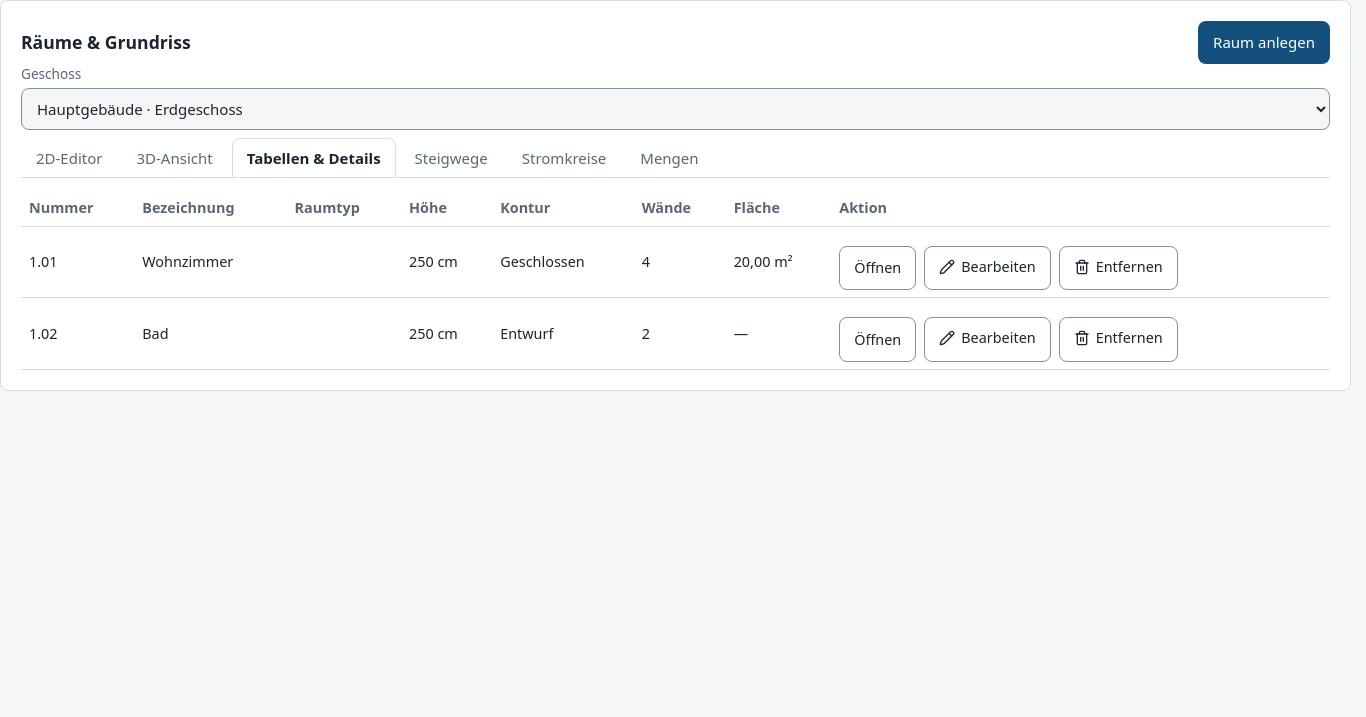
Raum öffnen › meldet die Ablehnung einer Wandloeschung mit Oeffnungen
Expected: the text "Wohnzimmer" is shown, [134, 226, 287, 298]
Click the button with aria-label "Raum Wohnzimmer öffnen": (878,268) [839, 246, 916, 290]
(page scrolled)
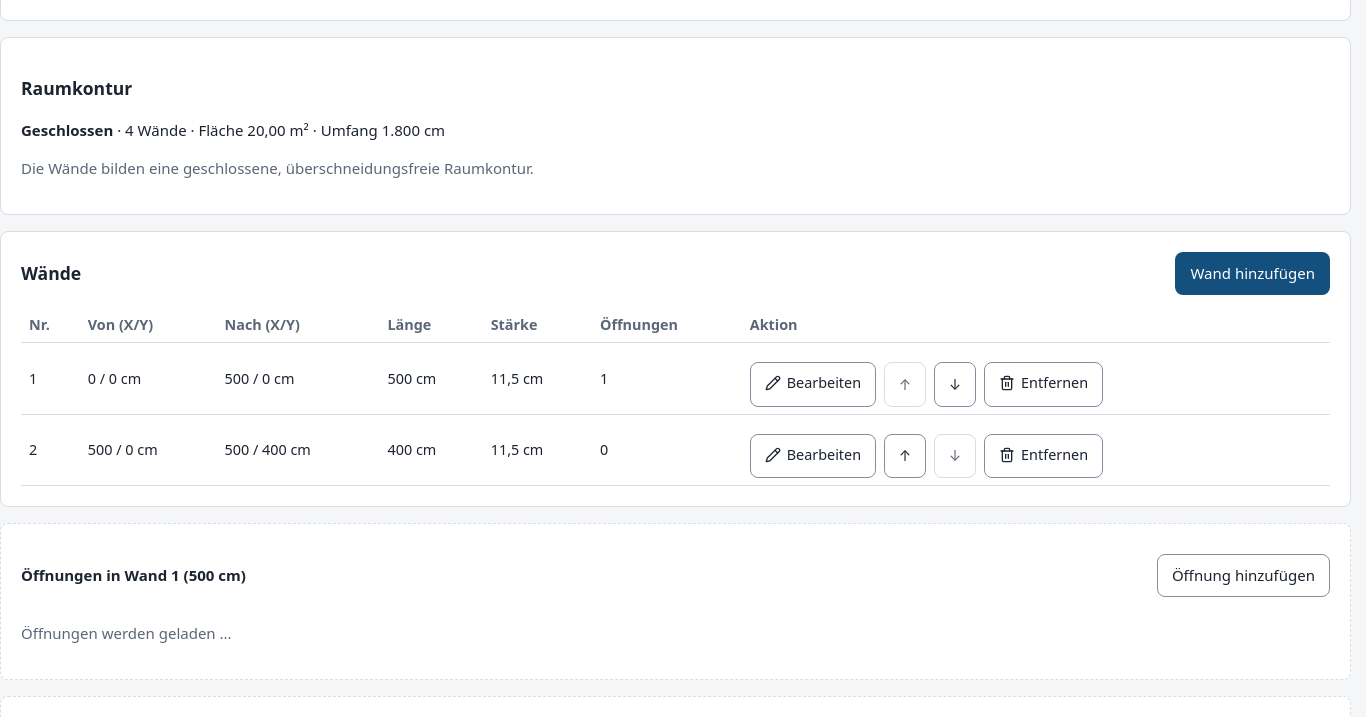
Now the heading "Raumkontur" is shown, box [21, 76, 132, 100]
Click the button with aria-label "Wand 1 entfernen": (1044,384) [984, 362, 1103, 407]
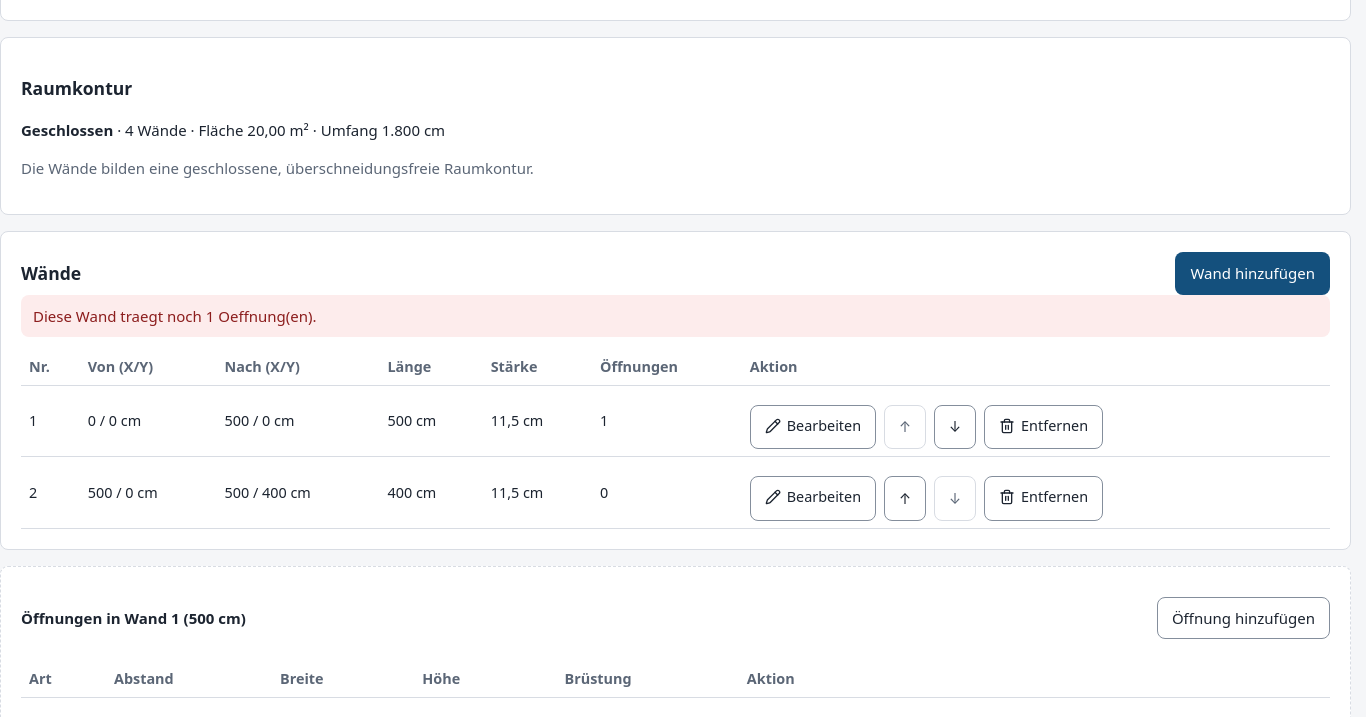
Now the text "Diese Wand traegt noch 1 Oeffnung(en)." is shown, box [21, 295, 1330, 337]
